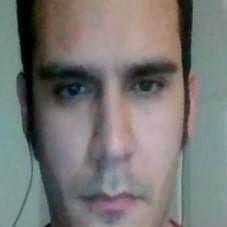awake: (34, 49, 184, 227)
